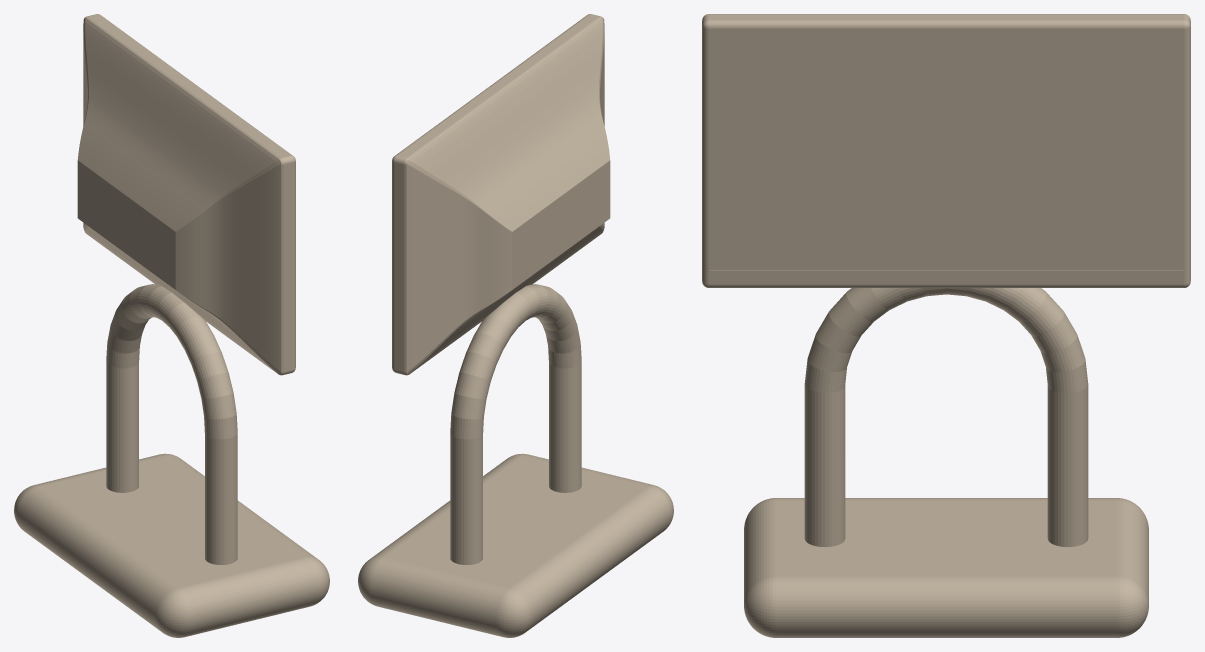
File: 3dcodebench_Monitor_seed0_L3_Q2__gemini31pro.glb
The picture shows the model from 3 angles, left to right: view 1: azimuth 30°, elevation 25°; view 2: azimuth 150°, elevation 25°; view 3: azimuth 270°, elevation 25°; orthographic projection. The views are drawn at different scales.
Parts seen in each view (by area): view 1: object; view 2: object; view 3: object.
Part boxes in pixels (box(x1,y1,x2,y2)): object: box(14, 14, 329, 637); object: box(358, 14, 673, 637); object: box(702, 14, 1190, 637).
Size of the model in its own units: 0.3 by 0.8044 by 0.6033.
